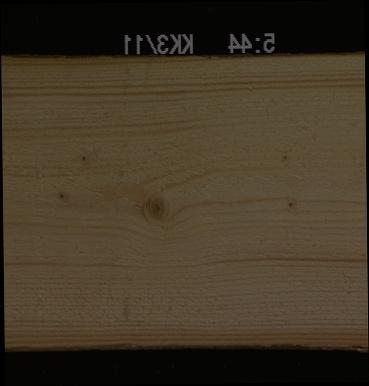small_knot: (280, 152, 288, 161), (286, 199, 294, 208), (80, 154, 86, 161)
sound_knot: (146, 195, 166, 223), (56, 187, 70, 202)
